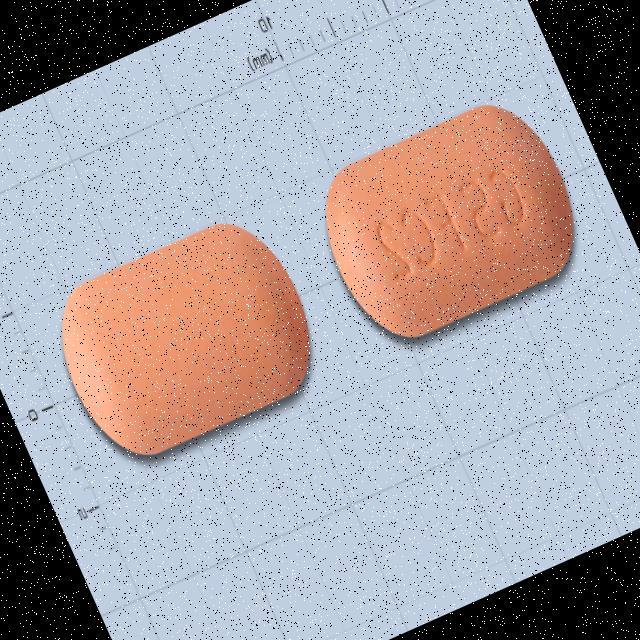Kivexa: (297, 85, 600, 358), (35, 203, 335, 475)
